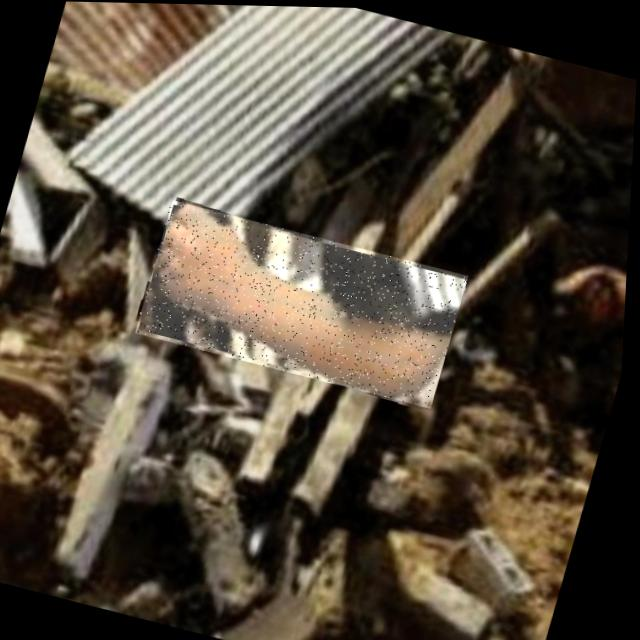Person in Rubble: (134, 198, 473, 407)
